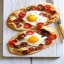pepperoni: (12, 10, 26, 30), (26, 3, 51, 12), (22, 21, 34, 31), (11, 34, 18, 49)
pizza: (7, 4, 59, 29), (8, 30, 59, 54)
